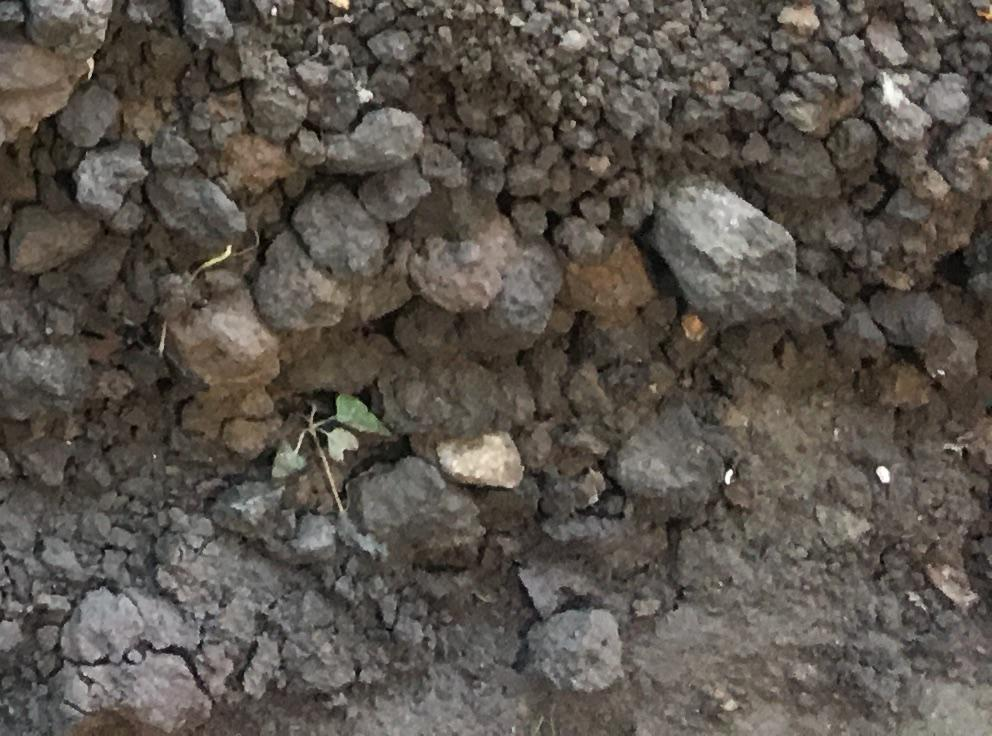block: (651, 173, 799, 327), (349, 452, 480, 574), (610, 406, 724, 518), (260, 228, 342, 335), (523, 609, 624, 695), (152, 169, 240, 254), (295, 184, 383, 268), (9, 202, 105, 277), (77, 143, 143, 217)
